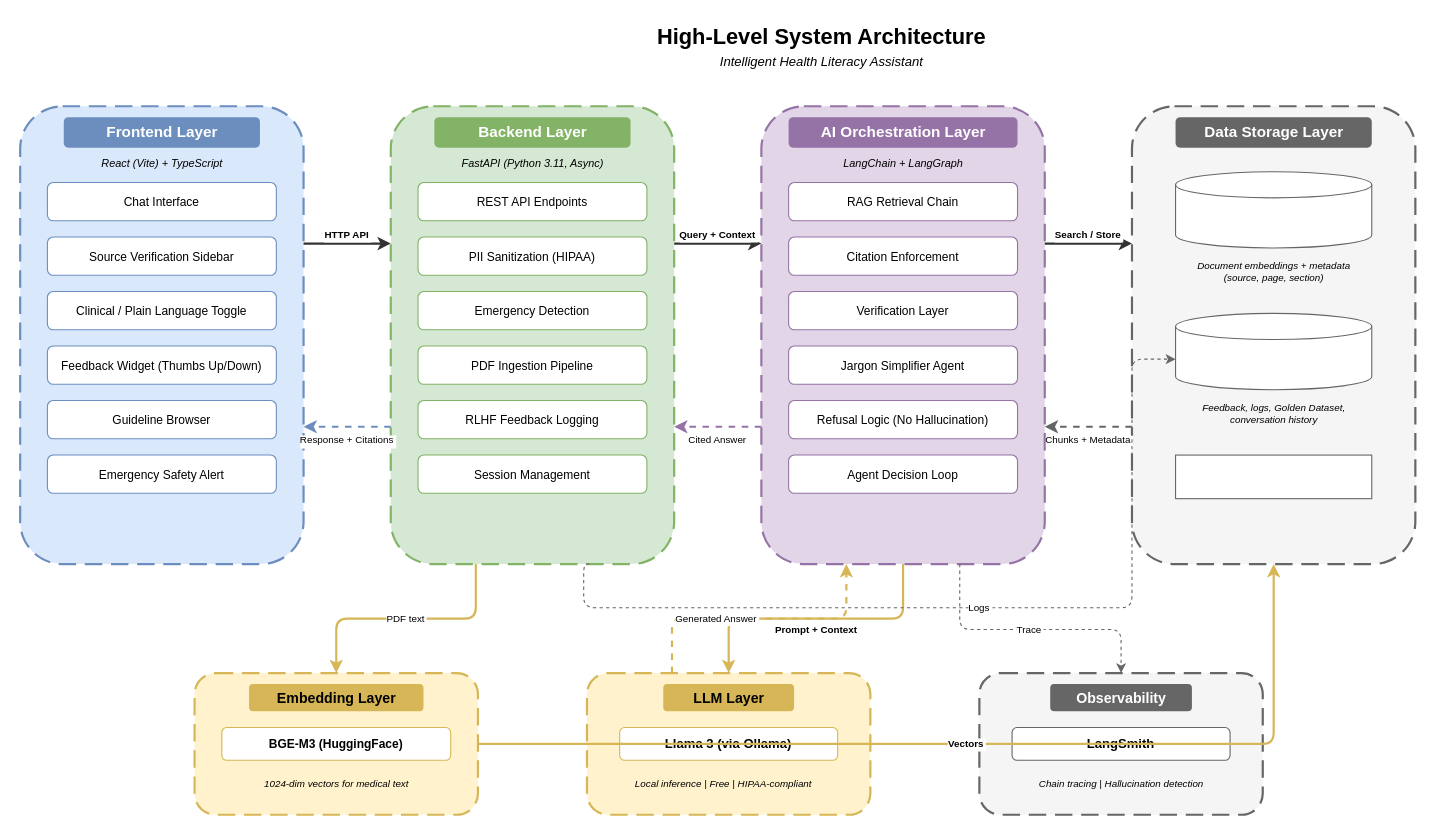
Image size: 1434x834. Some labels were removed from this diagram. The shapes that lost their labels are listed below. From the top down, each one's centre as x and y in pixels, then its label:
(x=1273, y=209): ChromaDB (Vector Database)
(x=1273, y=351): PostgreSQL
(x=1273, y=476): Medical PDFs (9 verified WHO documents)
